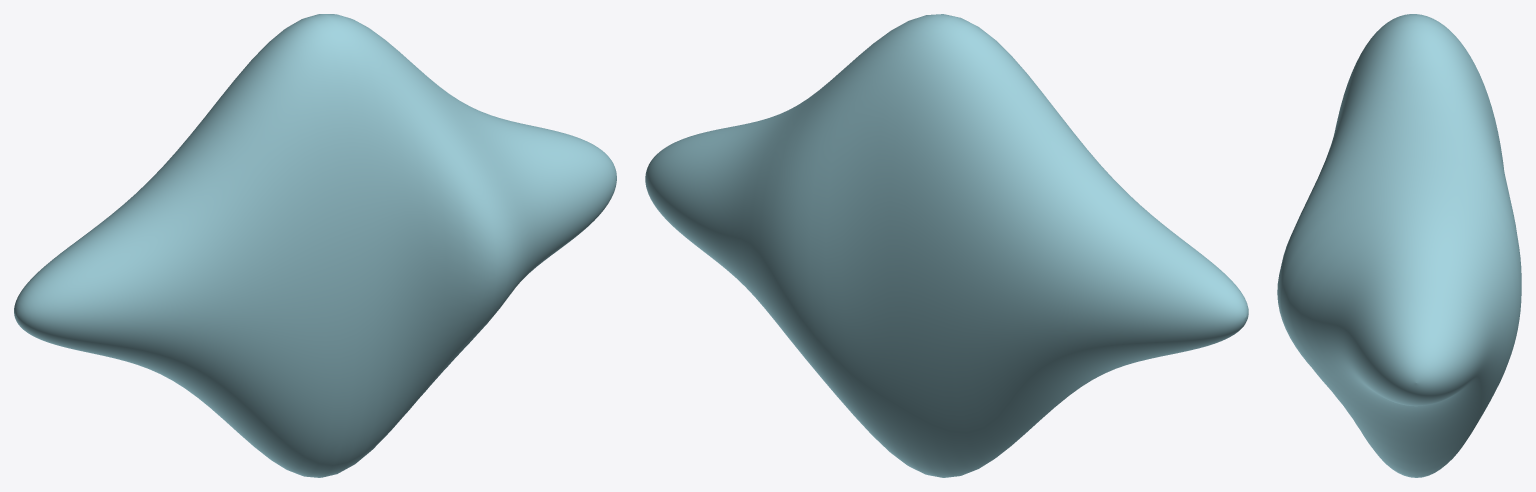
Rendered from ship_generic_teaser_transfer_organic_lod0_dev.glb.
The picture shows the model from 3 angles, left to right: view 1: azimuth 30°, elevation 25°; view 2: azimuth 150°, elevation 25°; view 3: azimuth 270°, elevation 25°; orthographic projection.
Visible parts, largest first — view 1: Nacre Transfer Vessel; view 2: Nacre Transfer Vessel; view 3: Nacre Transfer Vessel.
Part boxes in pixels (<box>): Nacre Transfer Vessel: <box>14,14,616,477</box>; Nacre Transfer Vessel: <box>645,14,1248,477</box>; Nacre Transfer Vessel: <box>1277,14,1521,477</box>.
Size of the model in its own units: 2.56 by 1.87 by 0.9182.
